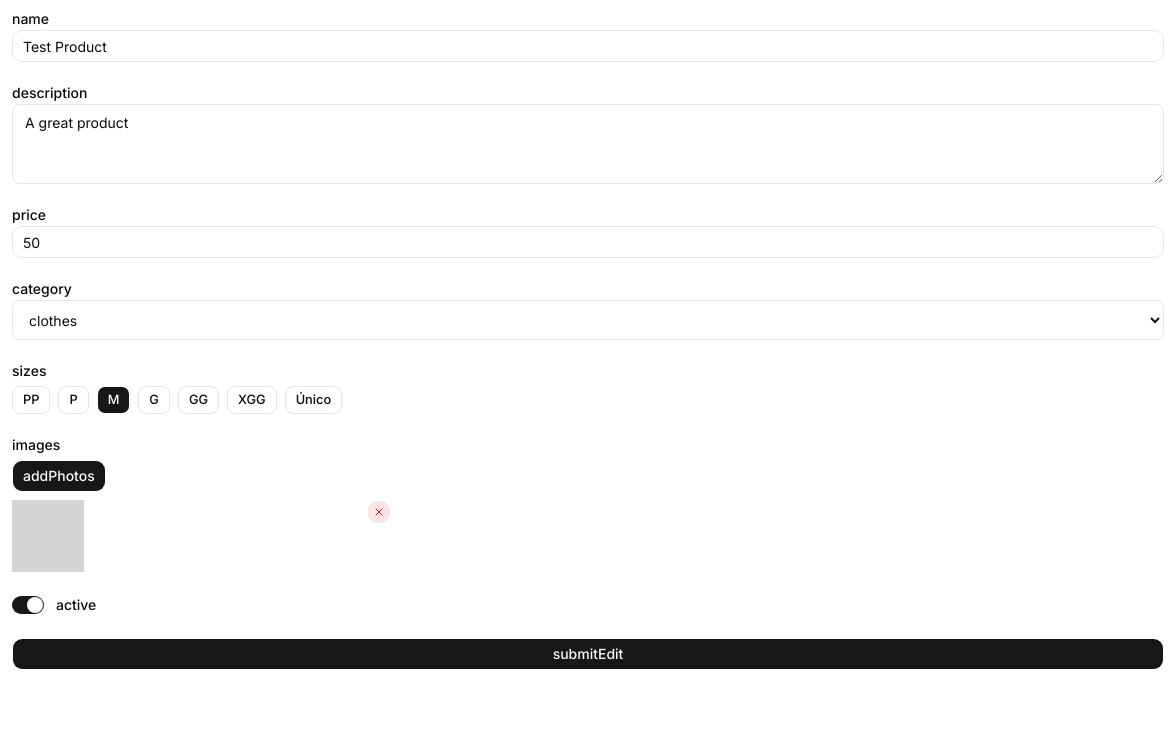
Test: ProductForm › Edit mode › shows server error message when API returns non-ok response
Click the button "submitEdit" at (588, 654), box x1=12 y1=638 x2=1164 y2=670
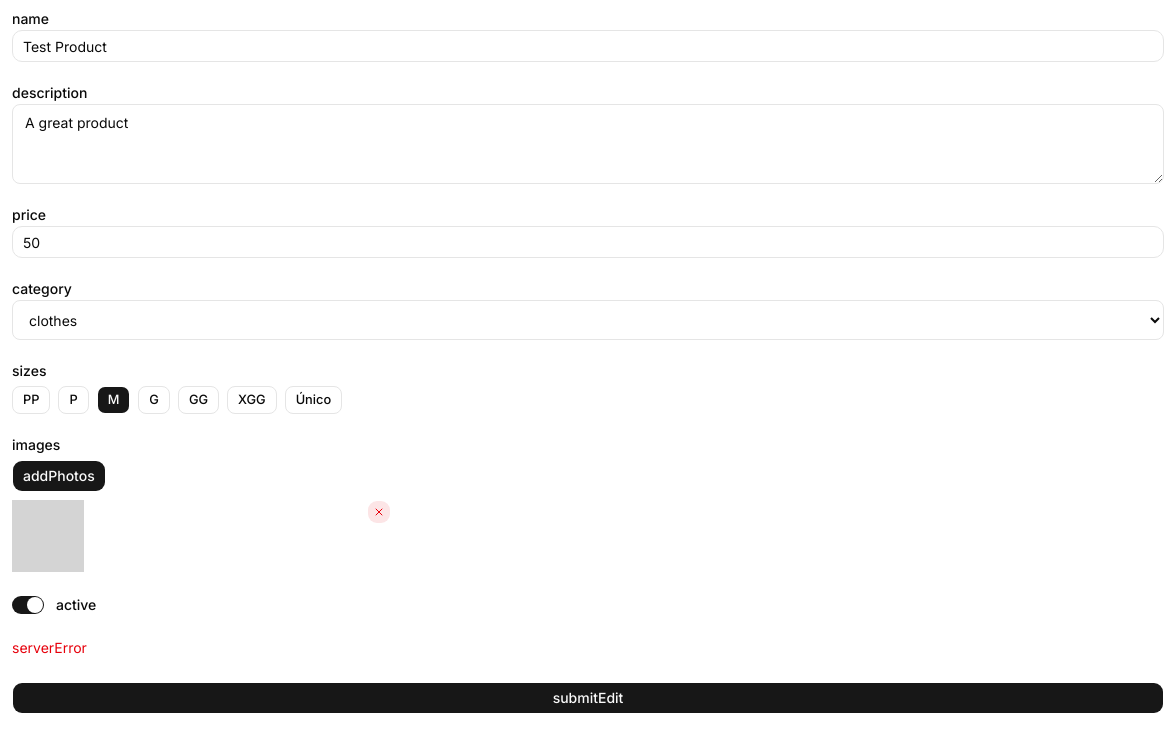
Expected: the text "serverError" is shown, x1=12 y1=639 x2=87 y2=656
